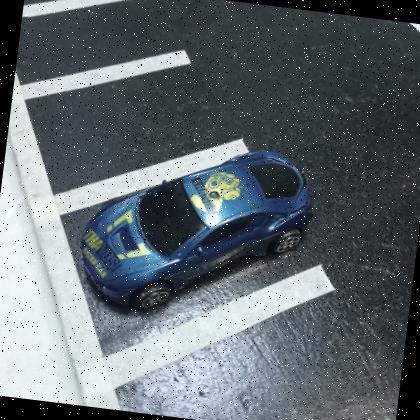Car: (72, 126, 323, 330)
